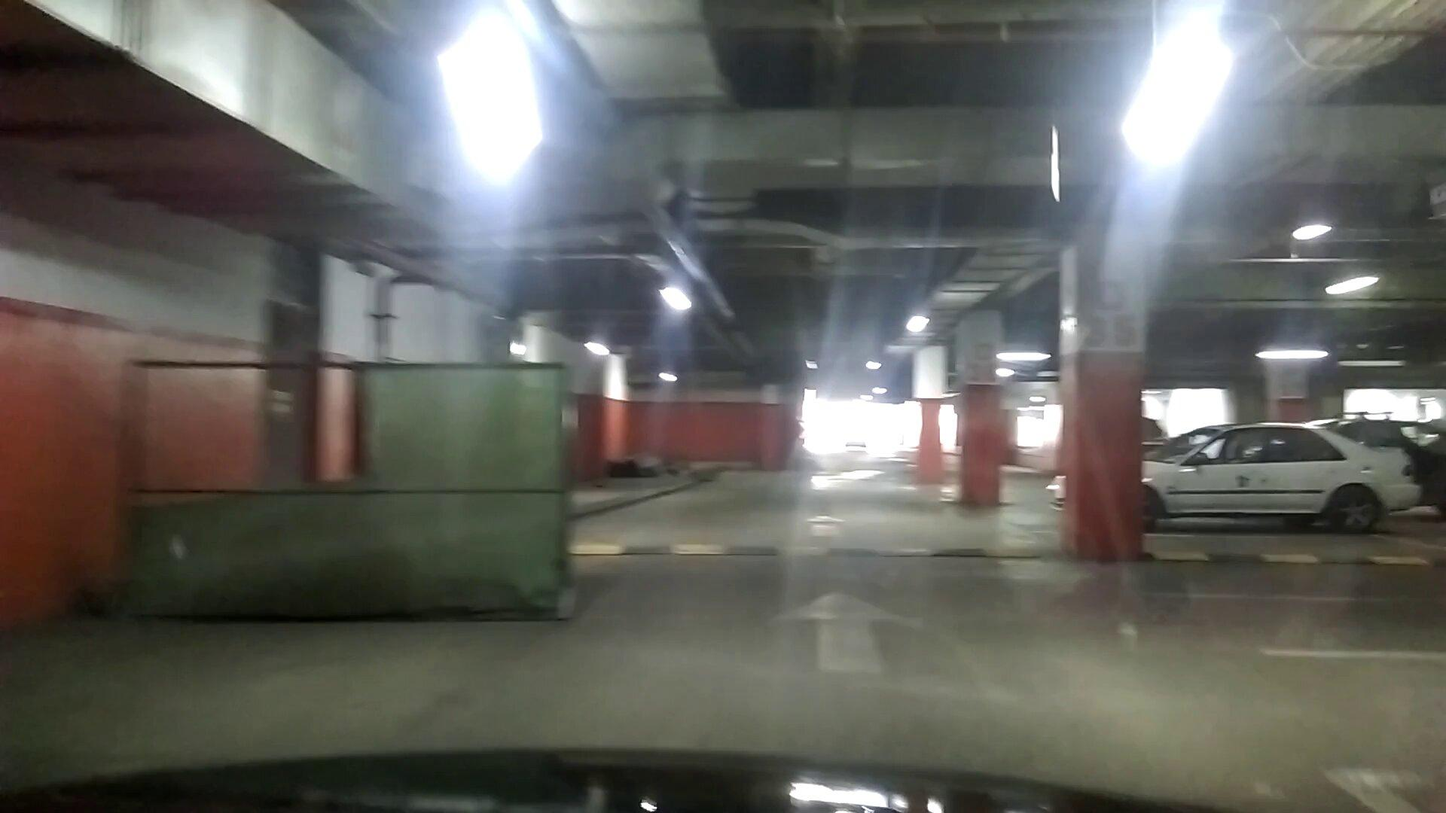Bump: (1145, 534, 1438, 580), (574, 538, 1113, 555)
